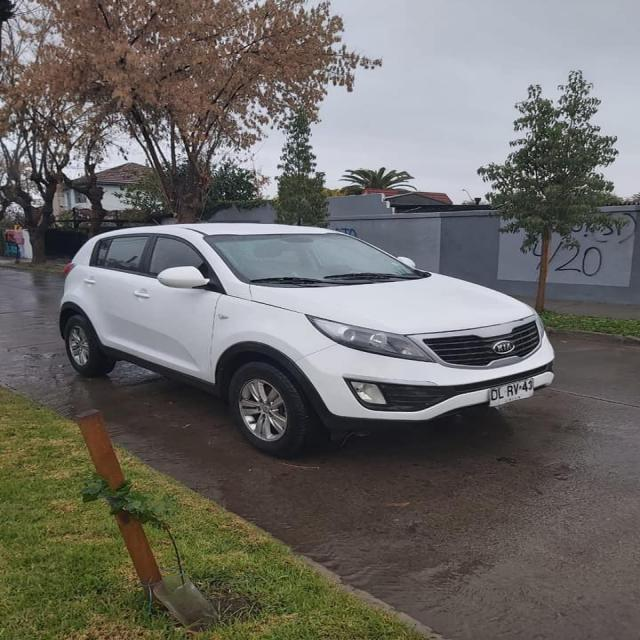patente: (487, 377, 534, 407)
